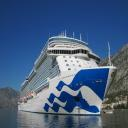cruises: (18, 31, 119, 118)
